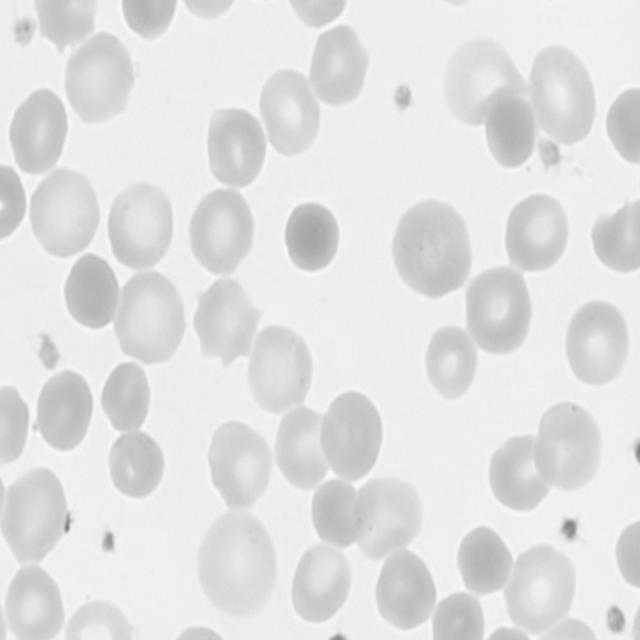Platelets: (535, 134, 559, 168)
RBC: (194, 513, 280, 622), (494, 418, 586, 506), (443, 38, 522, 138), (62, 26, 138, 127), (114, 270, 190, 370), (526, 44, 599, 148), (502, 540, 578, 638), (24, 167, 102, 261), (526, 399, 600, 498), (0, 464, 70, 567), (200, 420, 276, 514), (190, 275, 262, 370), (245, 326, 318, 419), (102, 180, 178, 269), (463, 264, 535, 354), (318, 387, 386, 482), (560, 300, 630, 392), (187, 185, 256, 276), (485, 432, 558, 518), (256, 66, 320, 162), (5, 82, 70, 174), (304, 24, 370, 114), (30, 368, 96, 456), (372, 548, 438, 635), (288, 541, 354, 628), (202, 104, 268, 190), (273, 407, 336, 495), (502, 193, 570, 274), (0, 566, 65, 640), (104, 428, 166, 504), (454, 524, 514, 602), (425, 322, 479, 402), (96, 360, 152, 434), (59, 597, 138, 640), (603, 83, 640, 166), (432, 588, 490, 640), (0, 382, 34, 465), (116, 0, 180, 40), (282, 0, 349, 32), (0, 161, 26, 242), (615, 515, 640, 599), (531, 617, 607, 640), (156, 621, 246, 640), (170, 0, 245, 22), (620, 591, 640, 640)
Spherocyte: (59, 254, 120, 338), (284, 199, 342, 275)
WBC: (390, 188, 478, 300)
